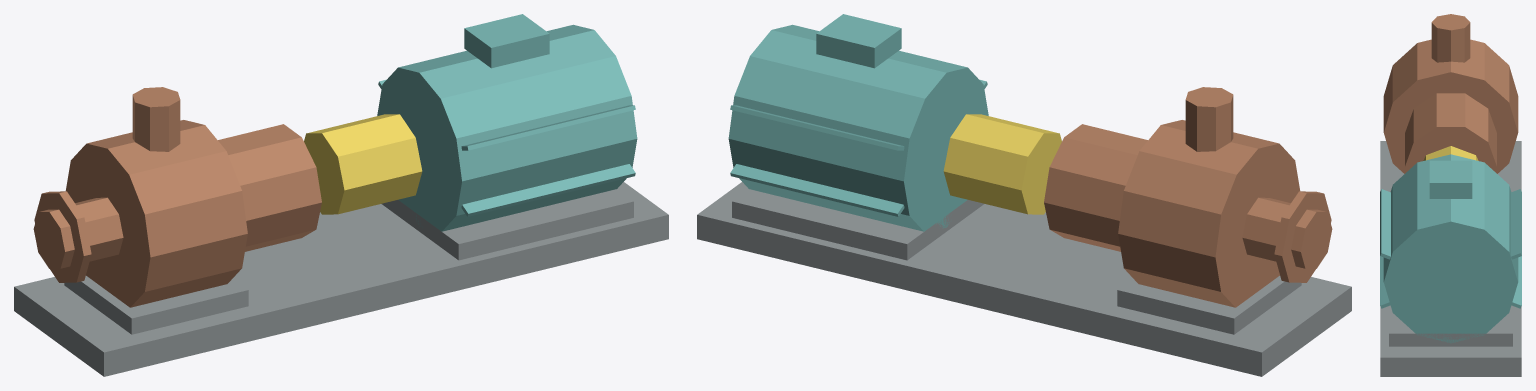
The model's file is furn_pump_unit.fbx.
3 views of the same model, side by side, from view 1: azimuth 30°, elevation 25°; view 2: azimuth 150°, elevation 25°; view 3: azimuth 270°, elevation 25° (orthographic). The views are drawn at different scales.
Parts seen in each view (by area): view 1: furn_pump_unit; view 2: furn_pump_unit; view 3: furn_pump_unit.
Part boxes in pixels (<box>): furn_pump_unit: <box>14,14,668,376</box>; furn_pump_unit: <box>697,14,1351,376</box>; furn_pump_unit: <box>1380,14,1521,376</box>.
Bounding box in the file's own units: 2.95 × 1.1 × 0.8022.
